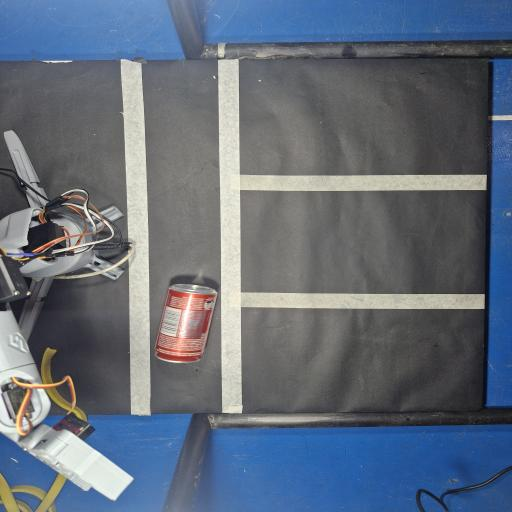lata: (155, 284, 217, 362)
